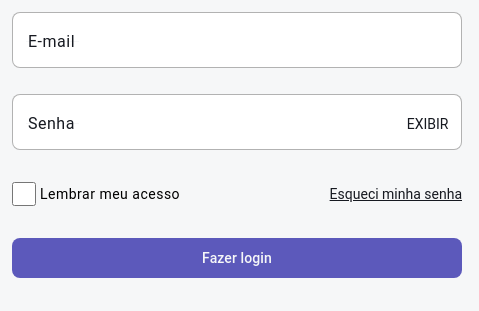
<LoginForm/> › should not execute function on submit with error
In the field labelled "E-mail": (237, 40) [12,12,462,68], type "teste@teste.com"
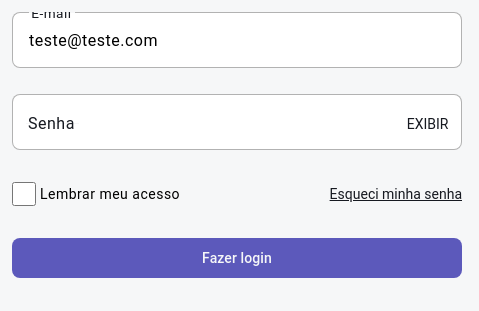
In the field labelled "Senha": (237, 122) [12,94,462,150], type "Test@123"
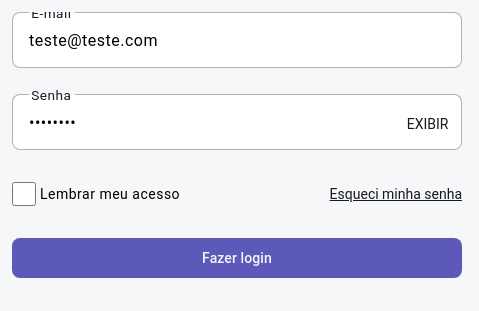
Click the button "Fazer login": click(237, 258) [12,238,462,278]
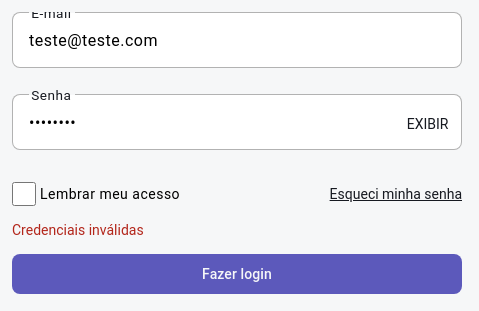
Result: the text "Credenciais inválidas" is shown at [12,222,144,238]
